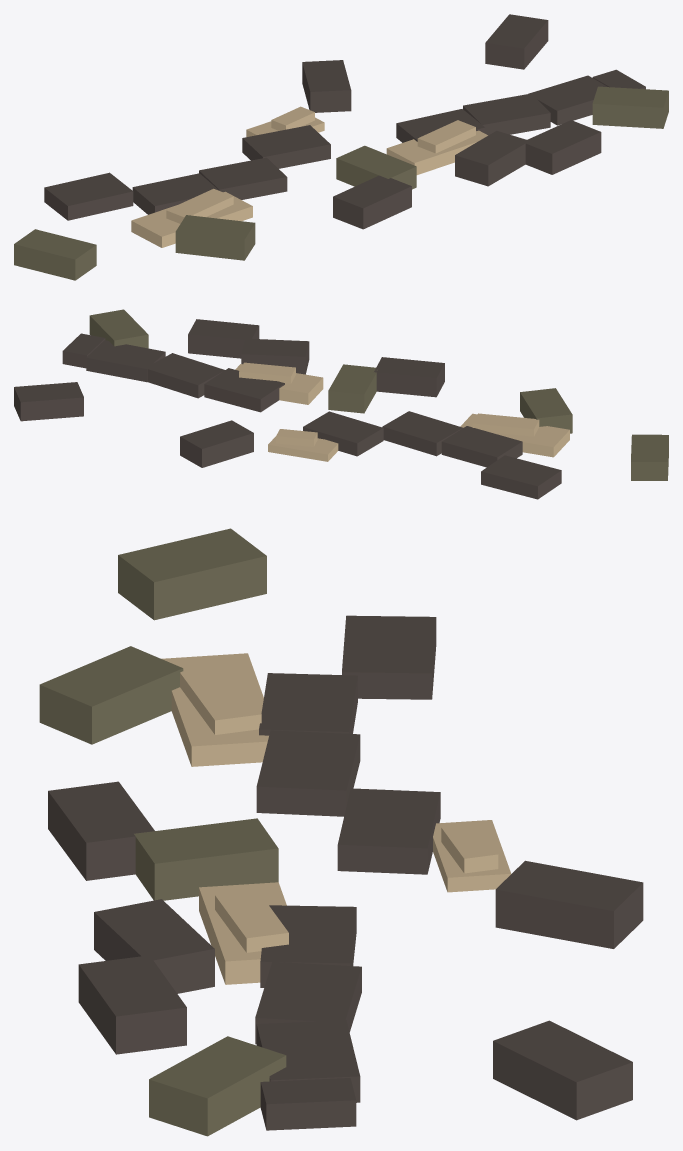
File: SM_MuroSacos_v0_Recto_e3_Brecha_LOD1.fbx
3 views of the same model, one above another, from view 1: azimuth 30°, elevation 25°; view 2: azimuth 150°, elevation 25°; view 3: azimuth 270°, elevation 25° (orthographic). The views are drawn at different scales.
Parts seen in each view (by area): view 1: SM_bloques.muro_sacos_estados_v3_LOD1; view 2: SM_bloques.muro_sacos_estados_v3_LOD1; view 3: SM_bloques.muro_sacos_estados_v3_LOD1.
Part boxes in pixels (x1=…): SM_bloques.muro_sacos_estados_v3_LOD1: x1=14, y1=14, x2=668, y2=280; SM_bloques.muro_sacos_estados_v3_LOD1: x1=14, y1=309, x2=668, y2=499; SM_bloques.muro_sacos_estados_v3_LOD1: x1=39, y1=528, x2=643, y2=1136.
Size of the model in its own units: 8.36 by 0.26 by 3.74.
